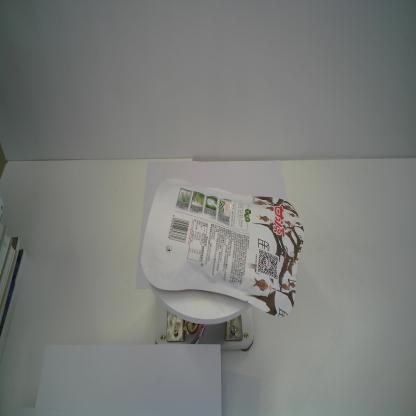Dried Fruit: (140, 177, 304, 319)
